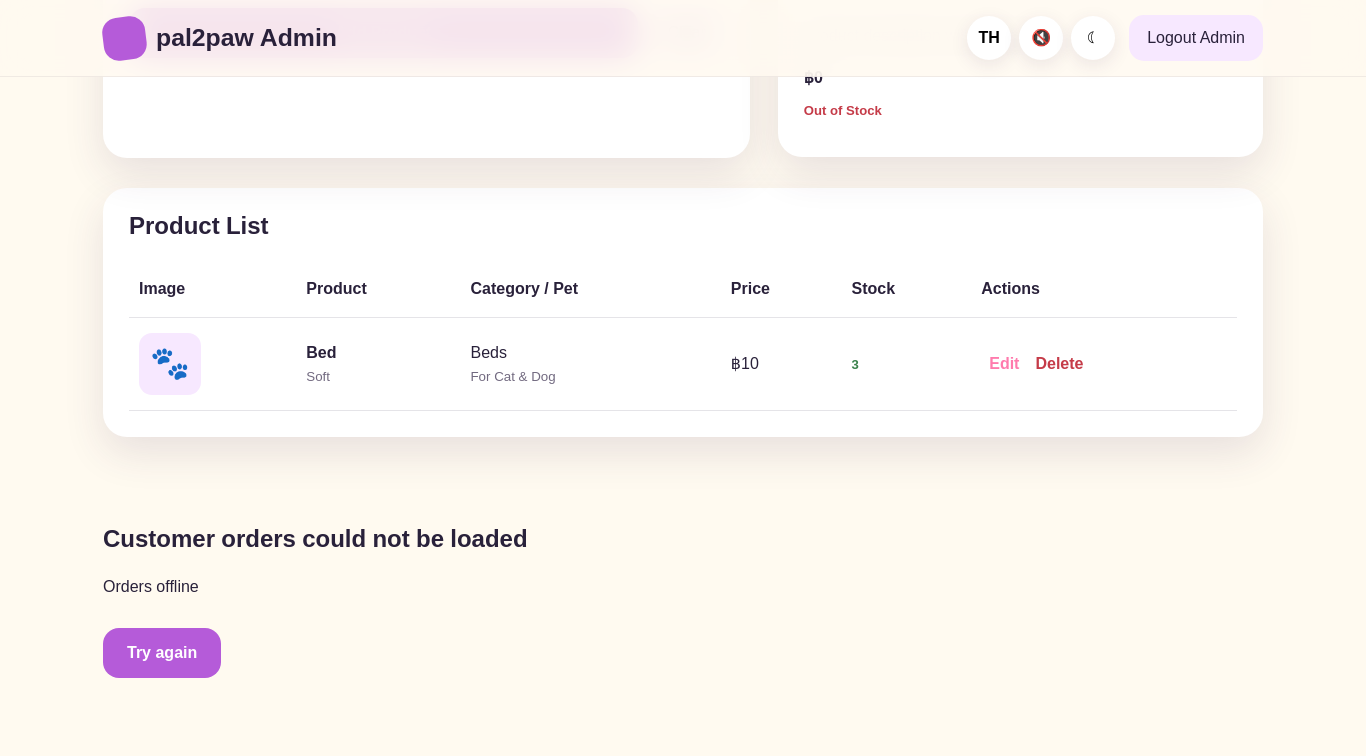
shows an error and retries manually
(page scrolled)
Expected: the message reads "Orders offline", [103, 578, 199, 595]
Click the button "Try again": (162, 653) [103, 628, 221, 678]
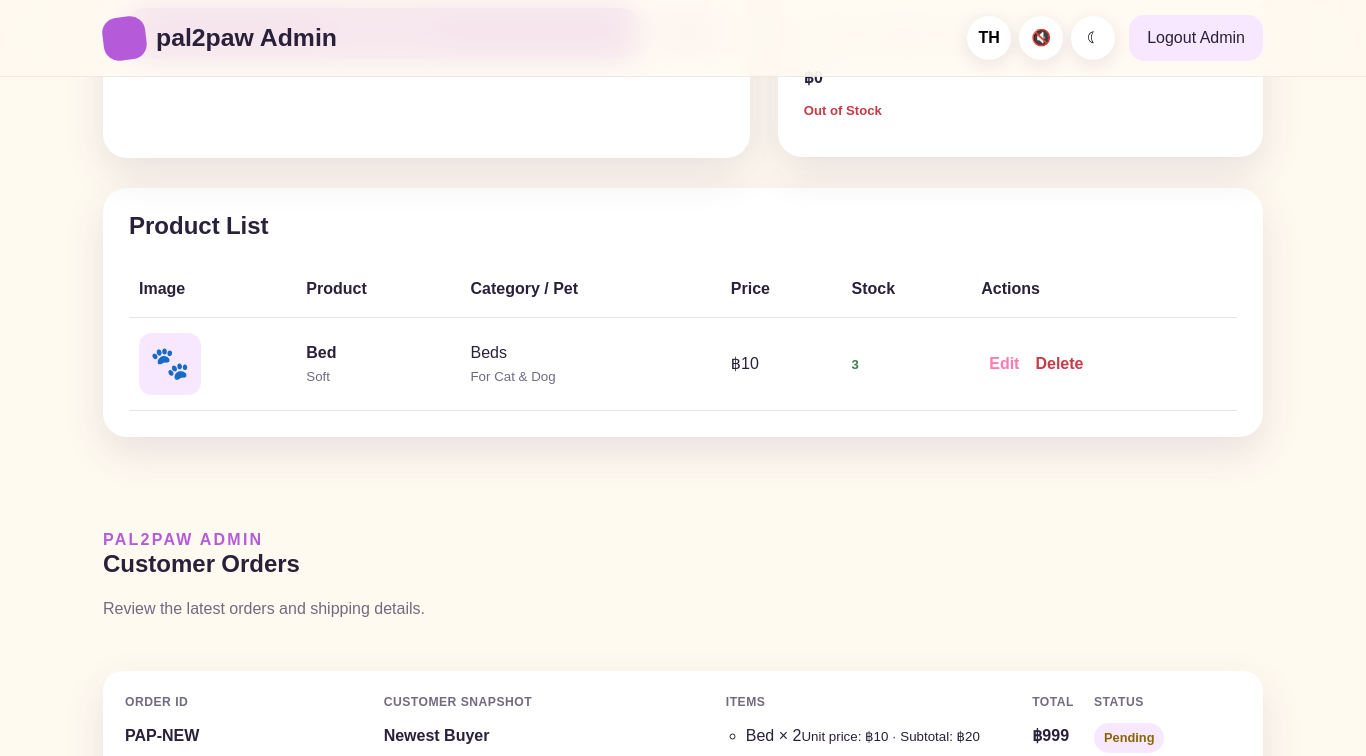
Expected: the text "PAP-NEW" is shown, [125, 727, 199, 744]
